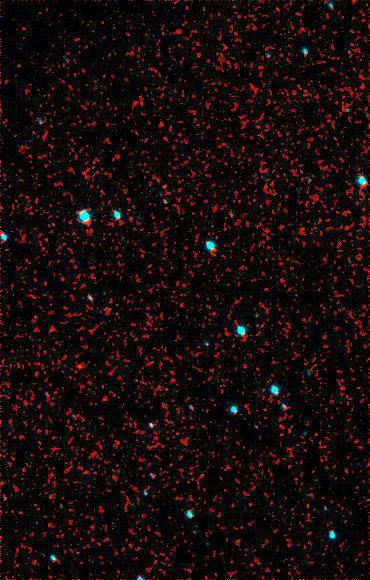star: (65, 351, 95, 381)
